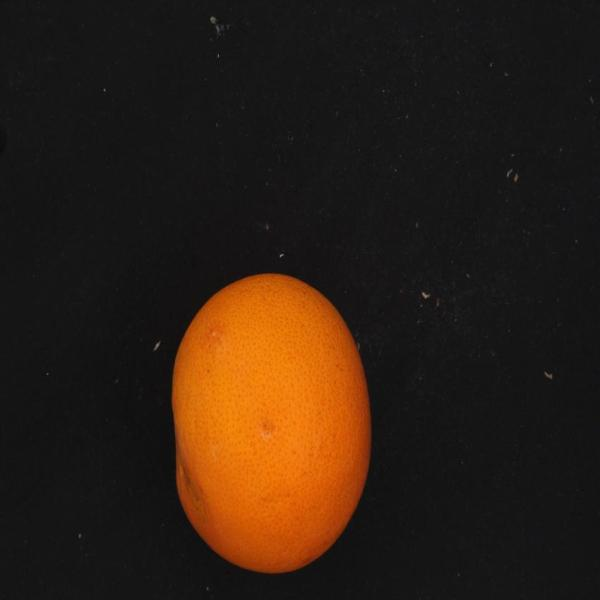Sana: (162, 264, 373, 578)
